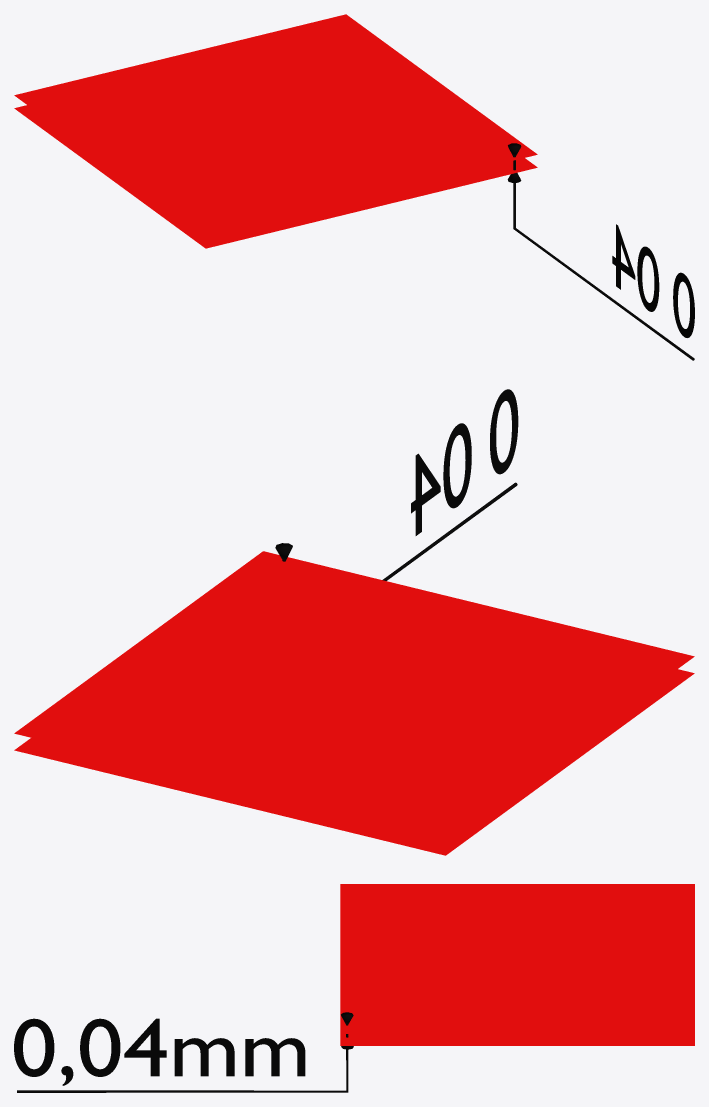
The picture shows the model from 3 angles, top to bottom: view 1: azimuth 30°, elevation 25°; view 2: azimuth 150°, elevation 25°; view 3: azimuth 270°, elevation 25°; orthographic projection. The views are drawn at different scales.
Parts seen in each view (by area): view 1: ZT_perpendicularite1, Text.007, NurbsPath.007; view 2: ZT_perpendicularite1, Text.007; view 3: ZT_perpendicularite1, Text.007, NurbsPath.007.
Part boxes in pixels (box(x1,y1,x2,y2)): ZT_perpendicularite1: box(14, 14, 537, 248); Text.007: box(612, 224, 694, 337); NurbsPath.007: box(513, 156, 694, 360); ZT_perpendicularite1: box(14, 551, 694, 855); Text.007: box(411, 389, 518, 535); ZT_perpendicularite1: box(340, 884, 694, 1045); Text.007: box(14, 1018, 305, 1085); NurbsPath.007: box(17, 1024, 348, 1092).
Size of the model in its own units: 2.68 by 0.6483 by 5.15.
